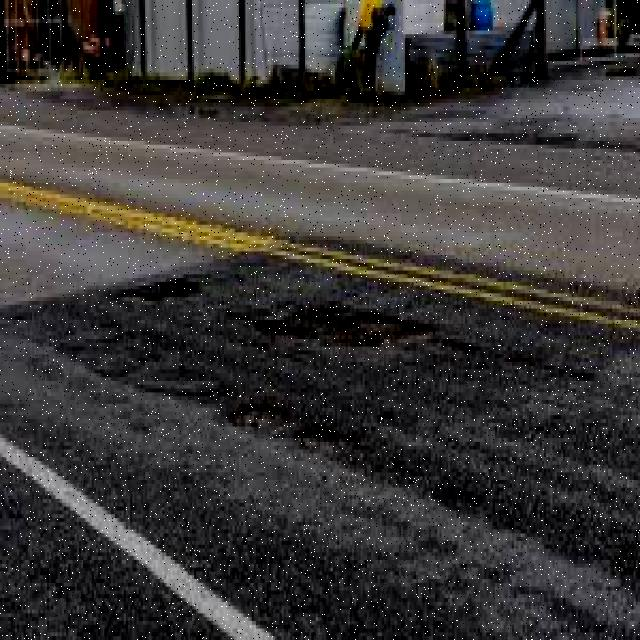pothole: (235, 301, 589, 380), (129, 278, 198, 305), (301, 429, 369, 454), (231, 410, 280, 432)
